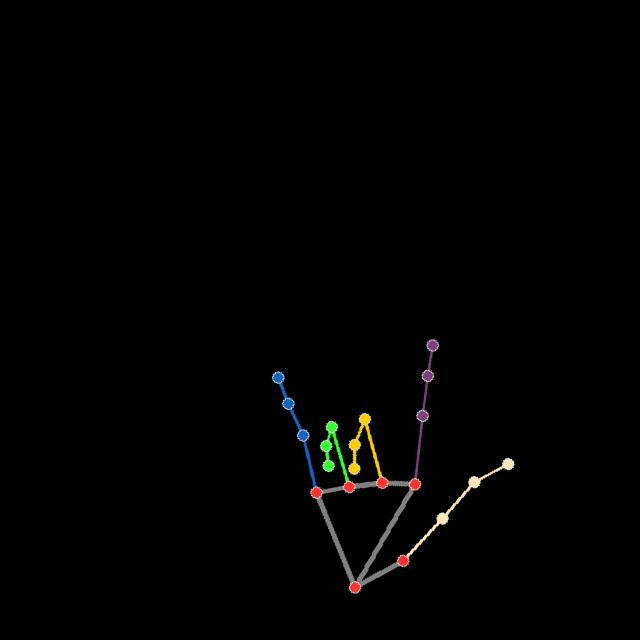spiderman: (268, 337, 517, 598)
